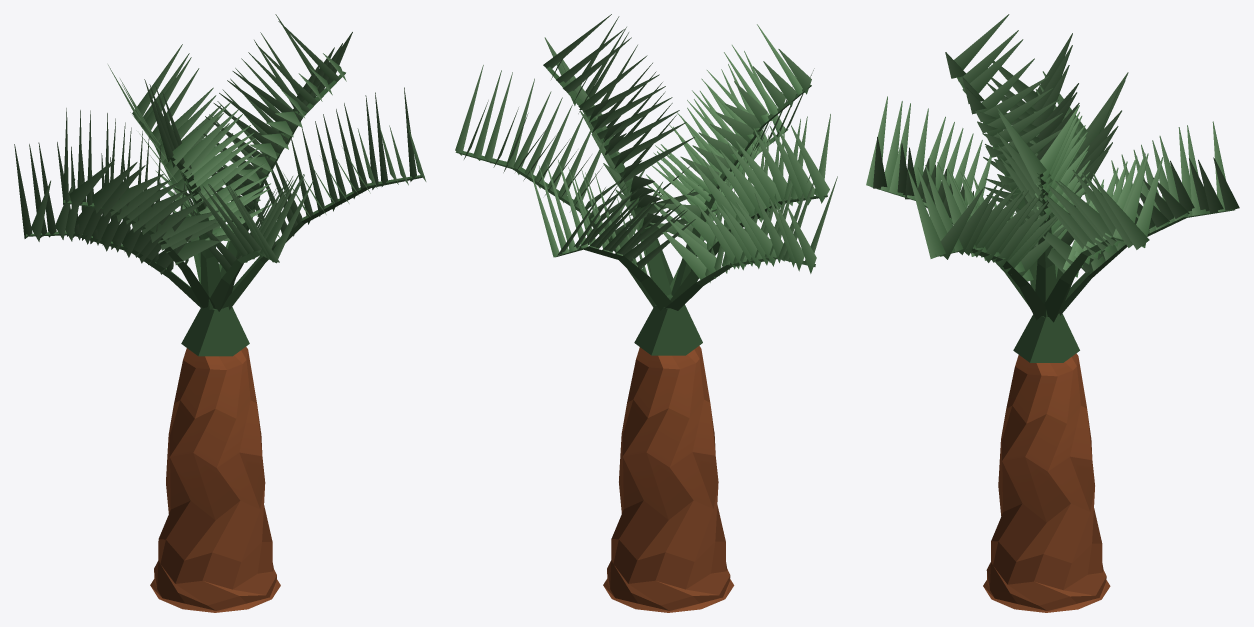
File: sawit 2.fbx
3 renders of one model, left to right at view 1: azimuth 30°, elevation 25°; view 2: azimuth 150°, elevation 25°; view 3: azimuth 270°, elevation 25°, orthographic. The views are drawn at different scales.
Visible parts, largest first — view 1: sawit 2; view 2: sawit 2; view 3: sawit 2.
Part boxes in pixels (x1=…): sawit 2: x1=14, y1=14, x2=426, y2=612; sawit 2: x1=455, y1=14, x2=837, y2=612; sawit 2: x1=866, y1=14, x2=1239, y2=612.
Bounding box in the file's own units: 243 × 381 × 244.
